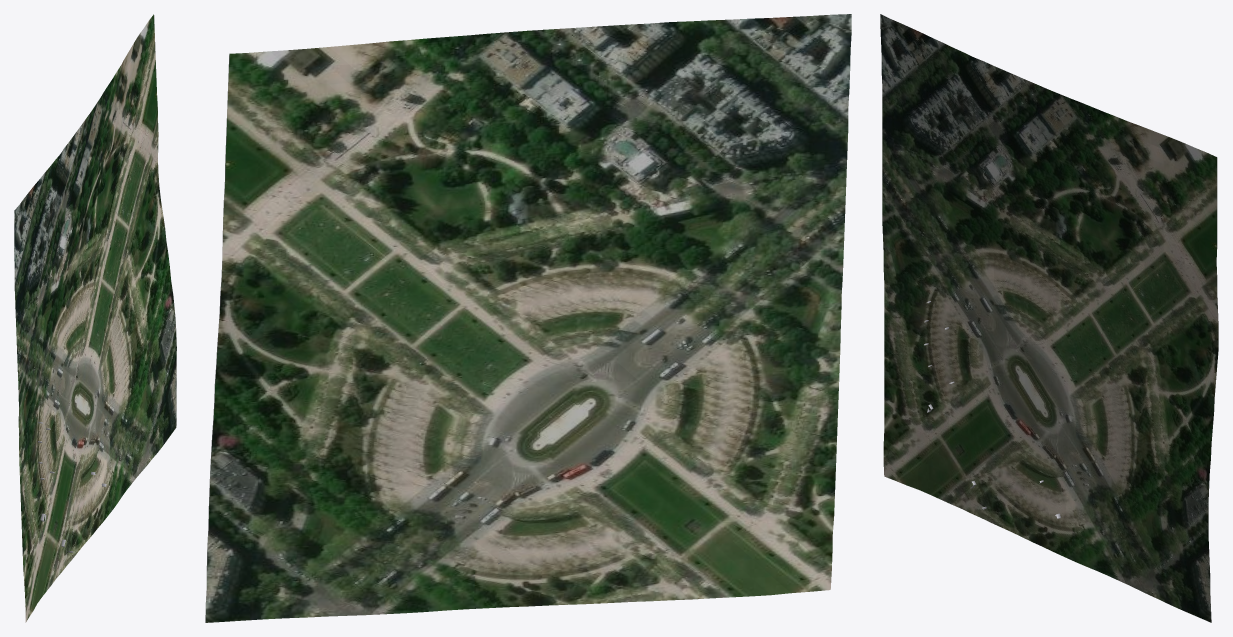
The picture shows the model from 3 angles, left to right: view 1: azimuth 30°, elevation 25°; view 2: azimuth 150°, elevation 25°; view 3: azimuth 270°, elevation 25°; orthographic projection. The views are drawn at different scales.
Bounding box in the file's own units: 318 × 415 × 271.
1 material, 1 textured.
